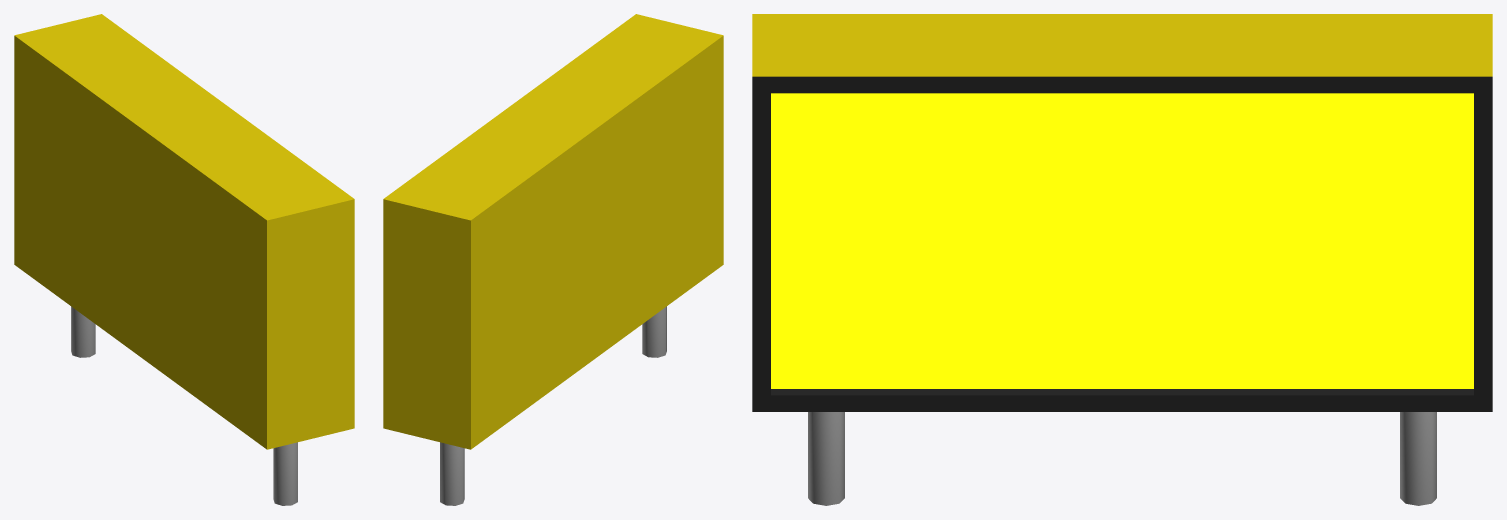
File: tw_sign.glb
3 renders of one model, left to right at view 1: azimuth 30°, elevation 25°; view 2: azimuth 150°, elevation 25°; view 3: azimuth 270°, elevation 25°, orthographic. The views are drawn at different scales.
Parts seen in each view (by area): view 1: Cube, Cylinder, Cylinder.001; view 2: Cube, Cylinder.001, Cylinder; view 3: Cube, Cylinder, Cylinder.001.
Boxes of the visible parts, x1,y1,x2,y2 form: Cube: (14,14,354,449); Cylinder: (273,442,297,505); Cylinder.001: (71,306,95,357); Cube: (383,14,723,449); Cylinder.001: (440,442,464,505); Cylinder: (642,306,666,357); Cube: (752,14,1492,411); Cylinder: (808,412,844,505); Cylinder.001: (1400,412,1436,505).
Bounding box in the file's own units: 0.4 × 1.35 × 2.
